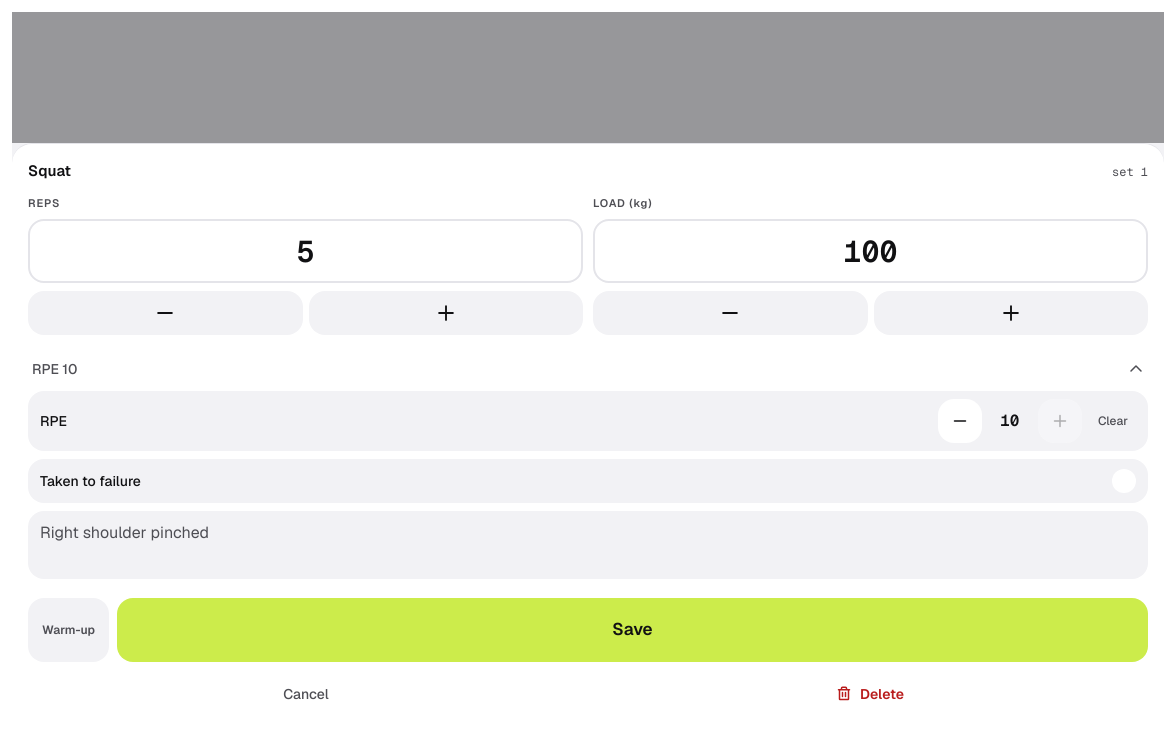
Scenario: SetEditorSheet — what qualifies a set › goes neither below 1 nor above 10
Check: the button named "Raise the RPE" is disabled, box [1038,399,1082,443]
Click the button named "Lower the RPE". click: point(960, 421)
box: [938,399,982,443]
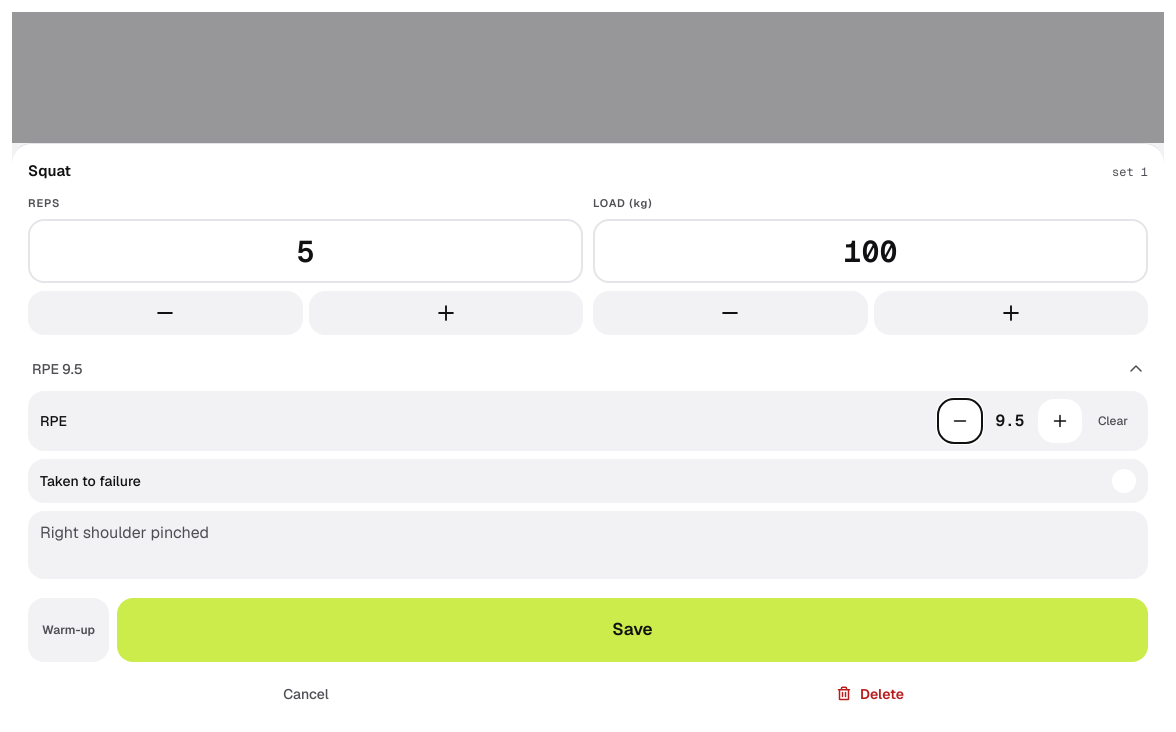
Check: the text "9.5" is shown, box [996,410,1024,431]
